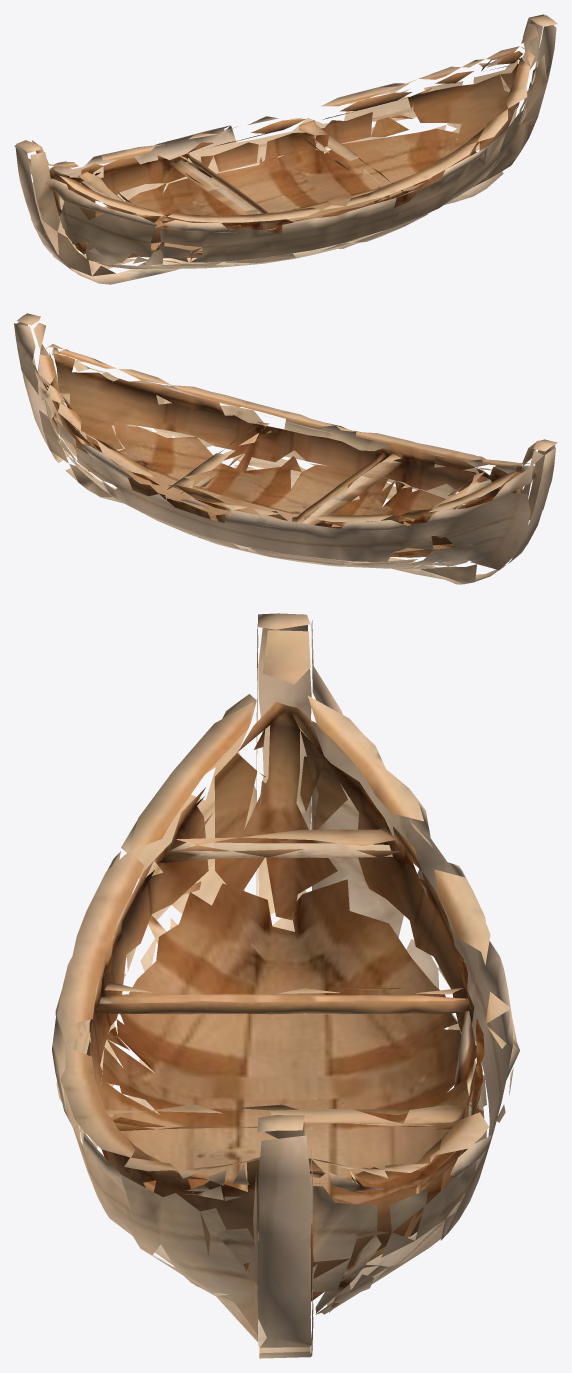
File: floss_holz.glb
3 renders of one model, top to bottom at view 1: azimuth 30°, elevation 25°; view 2: azimuth 150°, elevation 25°; view 3: azimuth 270°, elevation 25°, orthographic. The views are drawn at different scales.
Size of the model in its own units: 1.91 by 0.532 by 0.7319.
Materials: 1 (1 with a texture image).
